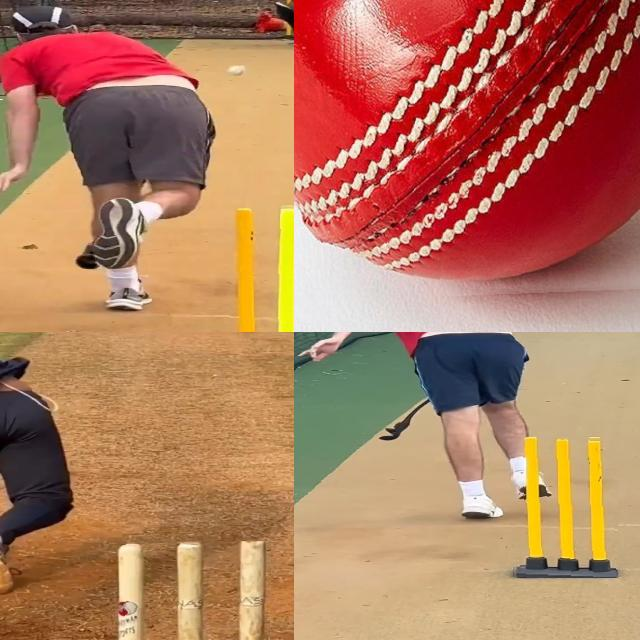Cricket ball: (294, 0, 640, 304), (227, 63, 247, 77)
Stumps: (112, 541, 271, 640), (511, 434, 618, 578), (216, 203, 294, 332)
